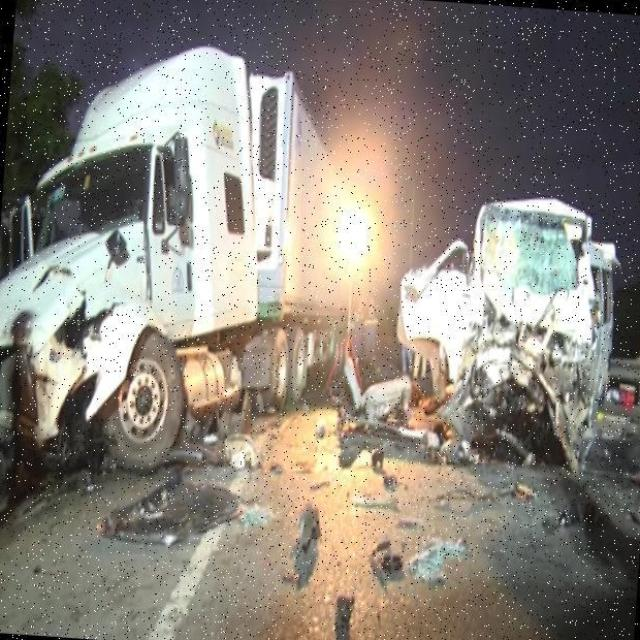accident: (1, 128, 275, 520), (372, 147, 640, 499)
